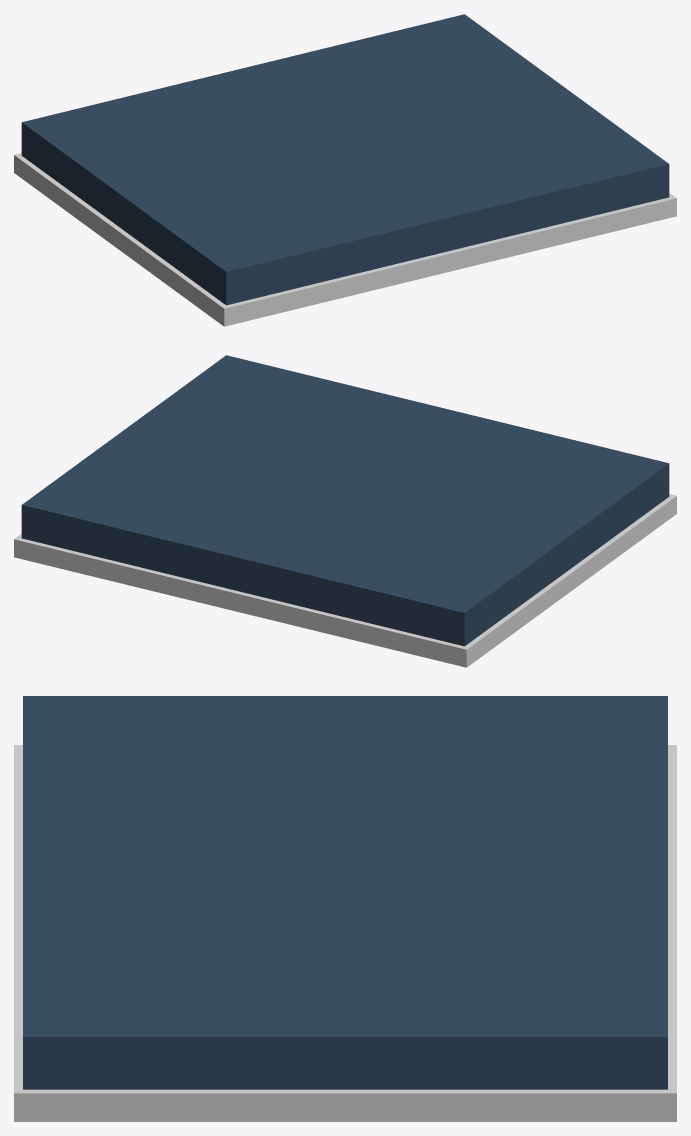
File: saddle-blanket-template.glb
The picture shows the model from 3 angles, top to bottom: view 1: azimuth 30°, elevation 25°; view 2: azimuth 150°, elevation 25°; view 3: azimuth 270°, elevation 25°; orthographic projection. The views are drawn at different scales.
Parts seen in each view (by area): view 1: gear_0_SaddleBlanket_MainFabric, gear_1_SaddleBlanket_Piping; view 2: gear_0_SaddleBlanket_MainFabric, gear_1_SaddleBlanket_Piping; view 3: gear_0_SaddleBlanket_MainFabric, gear_1_SaddleBlanket_Piping.
Part boxes in pixels (box(x1,y1,x2,y2)): gear_0_SaddleBlanket_MainFabric: box(21, 14, 669, 305); gear_1_SaddleBlanket_Piping: box(14, 153, 676, 326); gear_0_SaddleBlanket_MainFabric: box(21, 355, 669, 646); gear_1_SaddleBlanket_Piping: box(14, 494, 676, 667); gear_0_SaddleBlanket_MainFabric: box(23, 696, 667, 1089); gear_1_SaddleBlanket_Piping: box(14, 745, 676, 1121).
Bounding box in the file's own units: 0.92 × 0.1 × 0.74.
